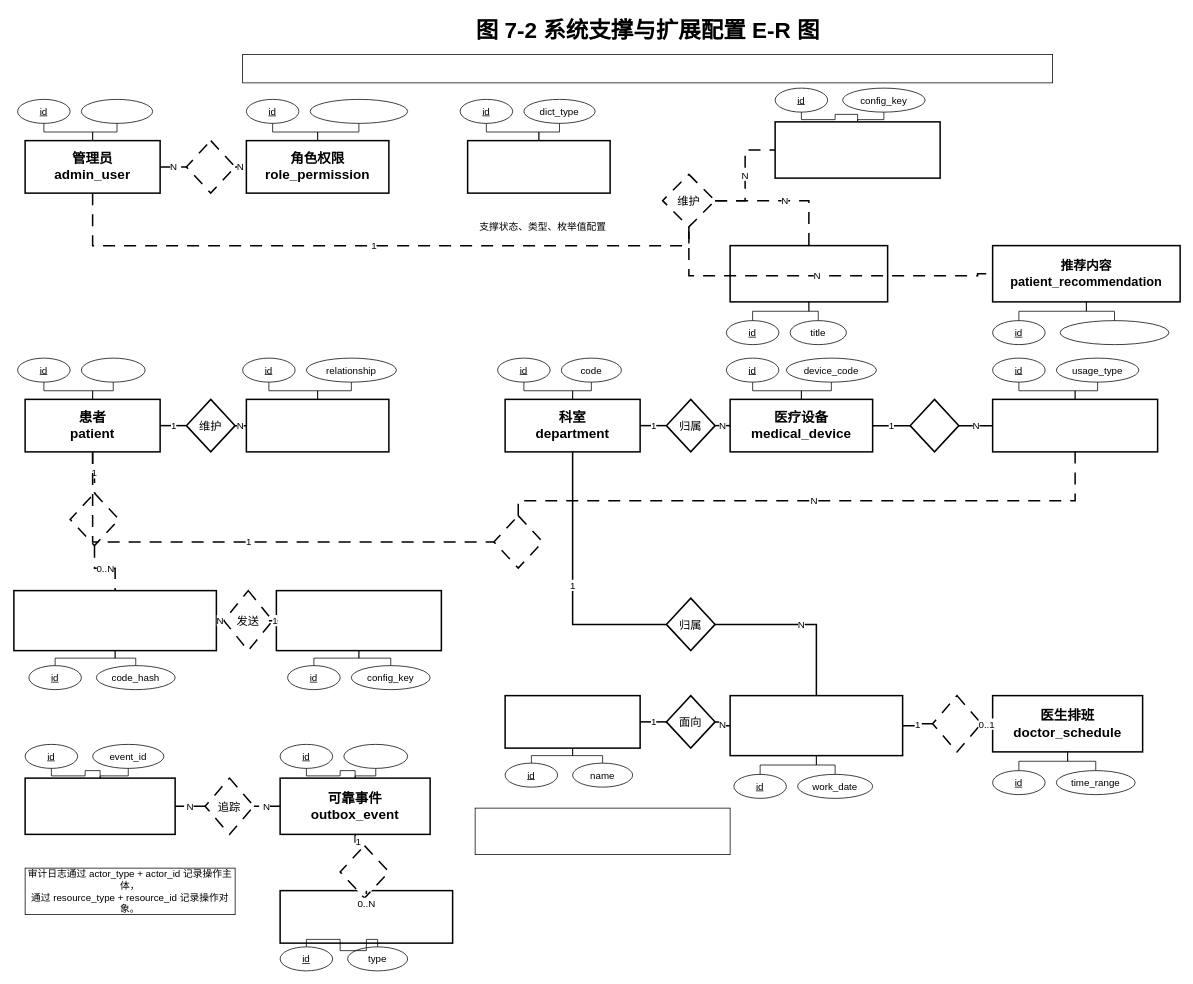
This 1193x984 diagram has some shape labels left out. The shapes that lost their labels are listed below. From the top down, each one's centre as x and y in pixels, then its label:
(x=647, y=68): 矩形：实体集 菱形：关系集 椭圆：属性 下划线属性：主键 虚线：弱引用 / 配置引用 / 日志或事件引用
(x=117, y=111): username
(x=358, y=111): permission_key
(x=210, y=167): 授权控制
(x=538, y=167): 系统字典 system_dict
(x=857, y=149): 门户配置 patient_site_config
(x=808, y=273): 患者公告 patient_notice
(x=1114, y=332): recommend_type
(x=113, y=369): phone
(x=317, y=425): 就诊人 patient_visitor
(x=934, y=425): 产生
(x=1075, y=425): 设备使用记录 device_usage_record
(x=94, y=519): 验证
(x=518, y=541): 关联
(x=115, y=620): 邮箱验证码 patient_email_verification_code
(x=358, y=620): 邮件配置 system_email_config
(x=572, y=721): 医生 doctor
(x=816, y=725): AI 排班建议 ai_schedule_suggestion
(x=957, y=723): 发布为
(x=375, y=756): status
(x=100, y=806): 审计日志 audit_log
(x=602, y=831): 可靠事件通过 payload_json 保存待投递事件， status / attempts / next_retry_at 支持失败重试。
(x=364, y=871): 生成
(x=366, y=917): 通知消息 notification_message
